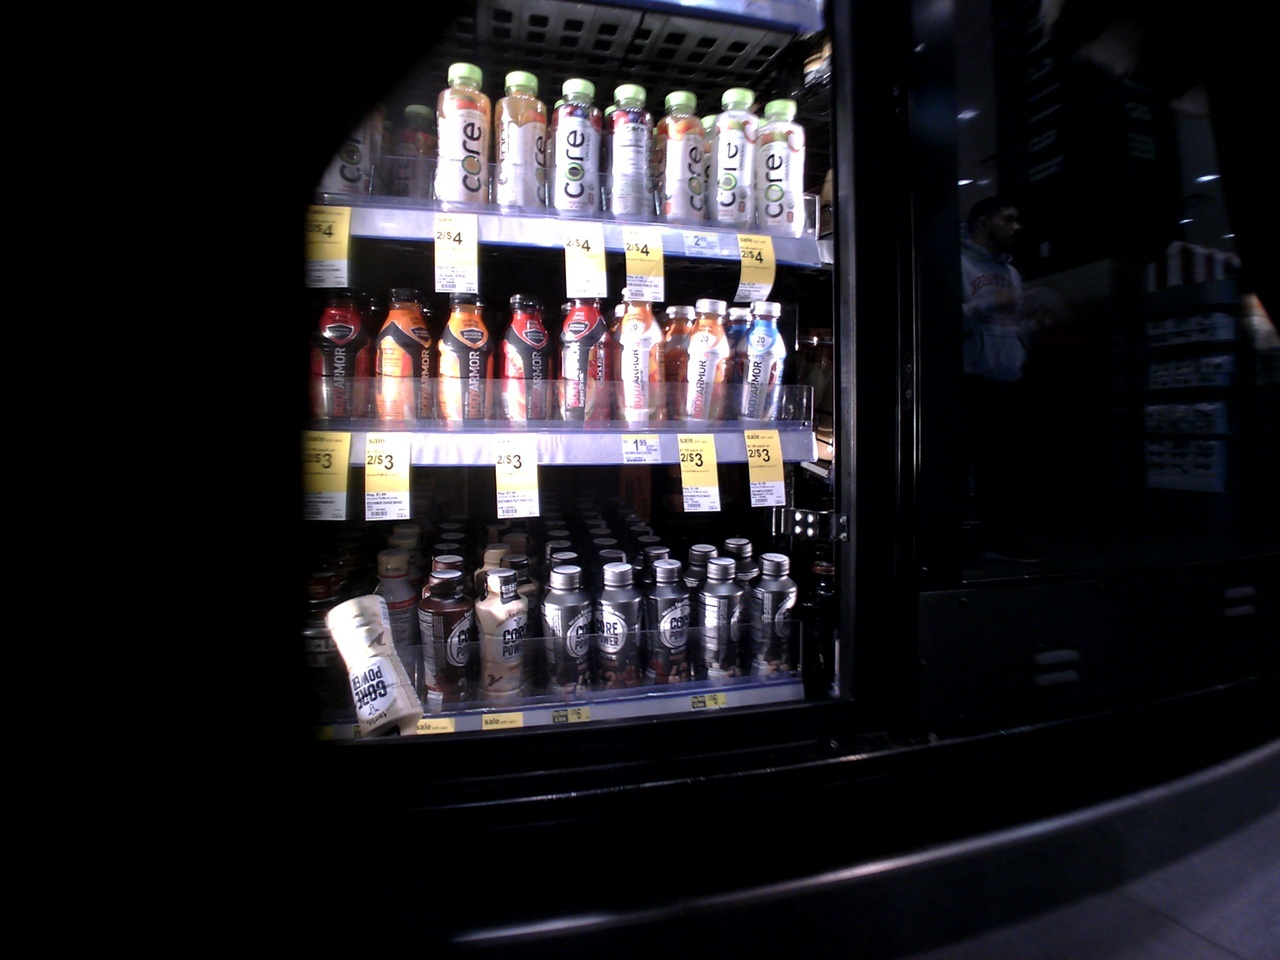shelf: (273, 488, 850, 718), (285, 31, 821, 275), (301, 263, 828, 481)
